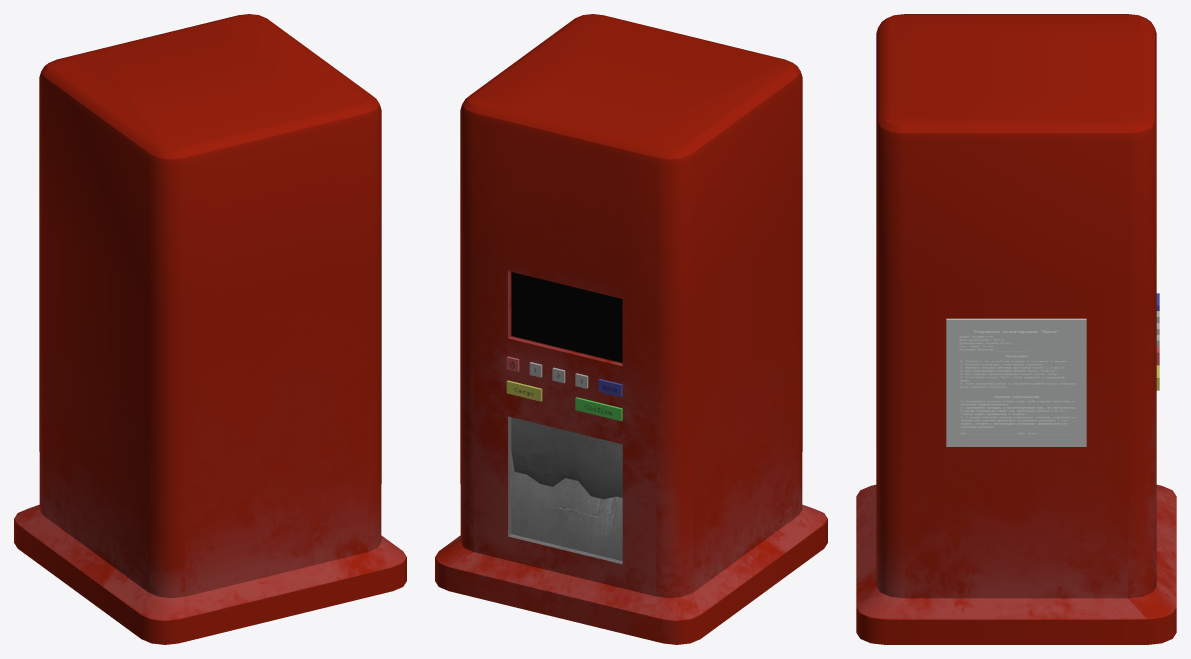
File: trader.fbx
The picture shows the model from 3 angles, left to right: view 1: azimuth 30°, elevation 25°; view 2: azimuth 150°, elevation 25°; view 3: azimuth 270°, elevation 25°; orthographic projection. The views are drawn at different scales.
Visible parts, largest first — view 1: trader corpus_low; view 2: trader corpus_low, trader bottom door_low, trader top door_low; view 3: trader corpus_low, info plate_low.
Boxes of the visible parts, box(x1,y1,x2,y2) form: trader corpus_low: box(14, 14, 406, 644); trader corpus_low: box(435, 14, 827, 644); trader bottom door_low: box(511, 471, 622, 560); trader top door_low: box(511, 417, 622, 499); trader corpus_low: box(856, 14, 1176, 644); info plate_low: box(946, 318, 1086, 446).
Bounding box in the file's own units: 114 × 200 × 114.
